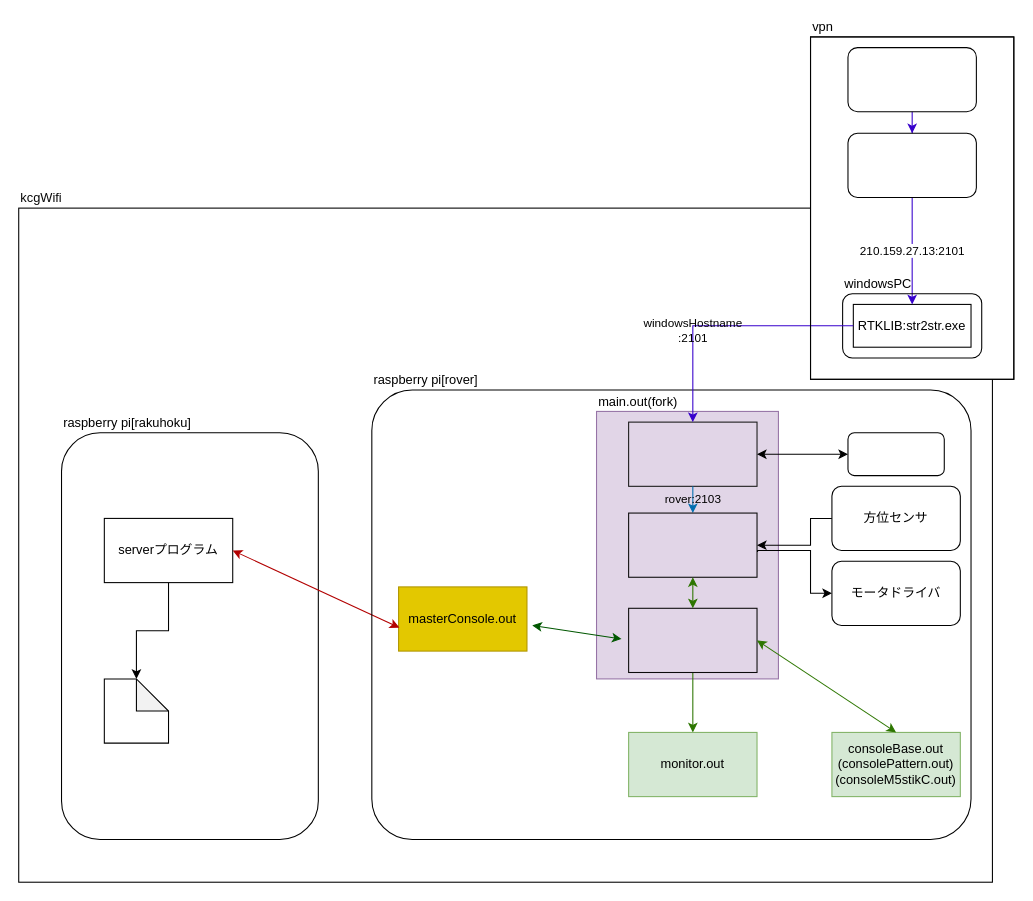
This 1033x901 diagram has some shape labels left out. Each missing label, with the centre of its shape:
"csv" goes at point (136, 710).
"f9p : 移動局" goes at point (895, 454).
"J教室ルータ 210.159.27.13" goes at point (911, 164).
"rover.out" goes at point (692, 544).
"RTKLIB:str2str.out" goes at point (692, 453).
"serverTcp.out" goes at point (692, 639).
"基準局" goes at point (911, 79).
